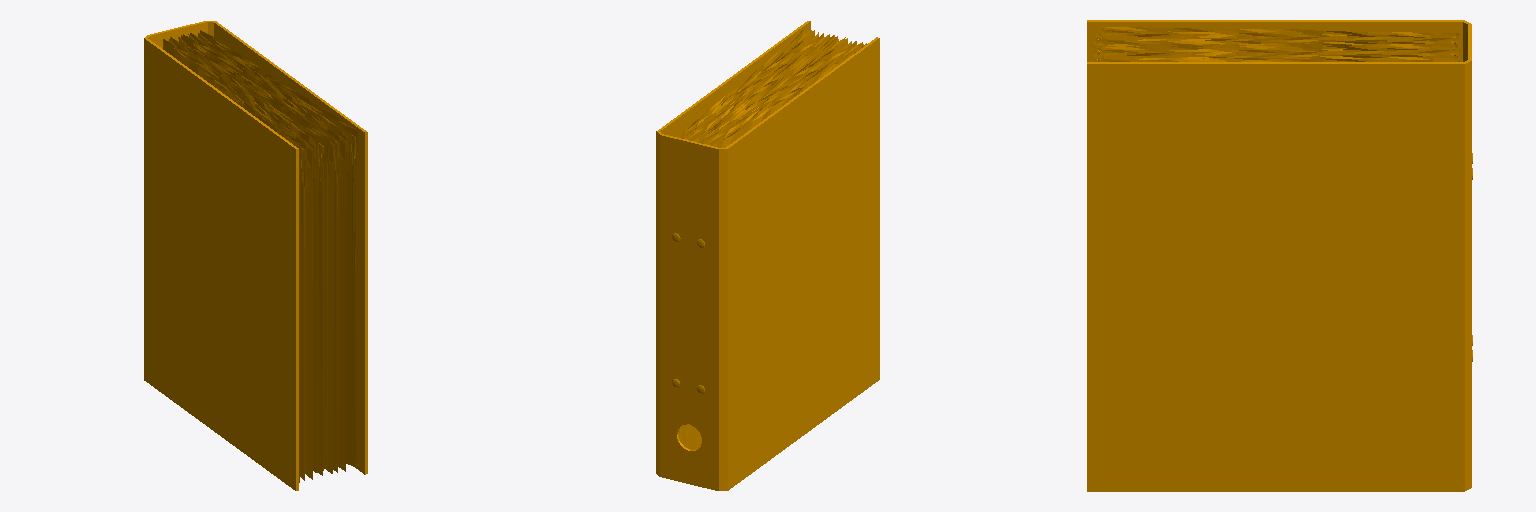
robot.urdf — yellow_book:
<?xml version="1.0"?>
<!-- GENERATED by tasks/libero/build_env/build_object_urdf.py. Do not hand edit.

     LIBERO object `yellow_book`, spawnable by the TRO-MP env.
     Role: graspable target object (envs/), one of the 22 LIBERO target assets.

     WHY a URDF when envs/yellow_book/ may also hold a USD: this env spawns objects
     only through `assets.object_urdf` (scene_utils.py:1929, which calls
     _convert_urdf_to_usd at :1964). The assets dataclass declares no USD field,
     so a ready-made USD cannot be handed to this code path.

     Mesh coordinates are PRESERVED, not re-centred: 11 of 22 LIBERO envs have
     their mesh origin at the object's base, and `goal_traj` tracks that origin.
     Re-centring would offset the object from its own trajectory every frame.

     Mass: density 800.0 kg/m^3 x mesh volume 1.838933e-05 m^3
     Inertia: solid-box approximation about the COM at that mass, NOT the true
     mesh inertia tensor. Adequate for a graspable tabletop object; revisit if
     spin dynamics matter.

     Collision: the full mesh, decomposed by Isaac's URDF importer. The convex
     decomposition authored in the DexVerse USD is NOT reproduced here.
-->
<robot name="yellow_book">
  <link name="yellow_book">
    <inertial>
      <origin xyz="0.005307 0.002425 0.071247" rpy="0 0 0"/>
      <mass value="0.014711"/>
      <inertia ixx="3.125001e-05" ixy="0" ixz="0" iyy="1.957692e-05" iyz="0" izz="1.345667e-05"/>
    </inertial>
    <visual>
      <origin xyz="0 0 0" rpy="0 0 0"/>
      <geometry><mesh filename="yellow_book.obj" scale="1 1 1"/></geometry>
    </visual>
    <collision>
      <origin xyz="0 0 0" rpy="0 0 0"/>
      <geometry><mesh filename="yellow_book.obj" scale="1 1 1"/></geometry>
    </collision>
  </link>
</robot>

--- Render facts (derived) ---
Views: 3 orthographic renders of the robot side by side, from view 1: azimuth 30°, elevation 25°; view 2: azimuth 150°, elevation 25°; view 3: azimuth 270°, elevation 25°.
Robot: yellow_book — 1 links, 0 joints (none); root link yellow_book; default pose: all joints at 0.
Visible links, largest first — view 1: yellow_book; view 2: yellow_book; view 3: yellow_book.
Boxes of the visible links, x1,y1,x2,y2 form: yellow_book: [144, 21, 367, 490]; yellow_book: [656, 21, 879, 490]; yellow_book: [1087, 20, 1472, 491].
Bounding box of the posed robot: 0.027 × 0.1012 × 0.1235 m (x, y, z).
1 mesh visuals loaded from 1 distinct referenced files (1 OBJ).
